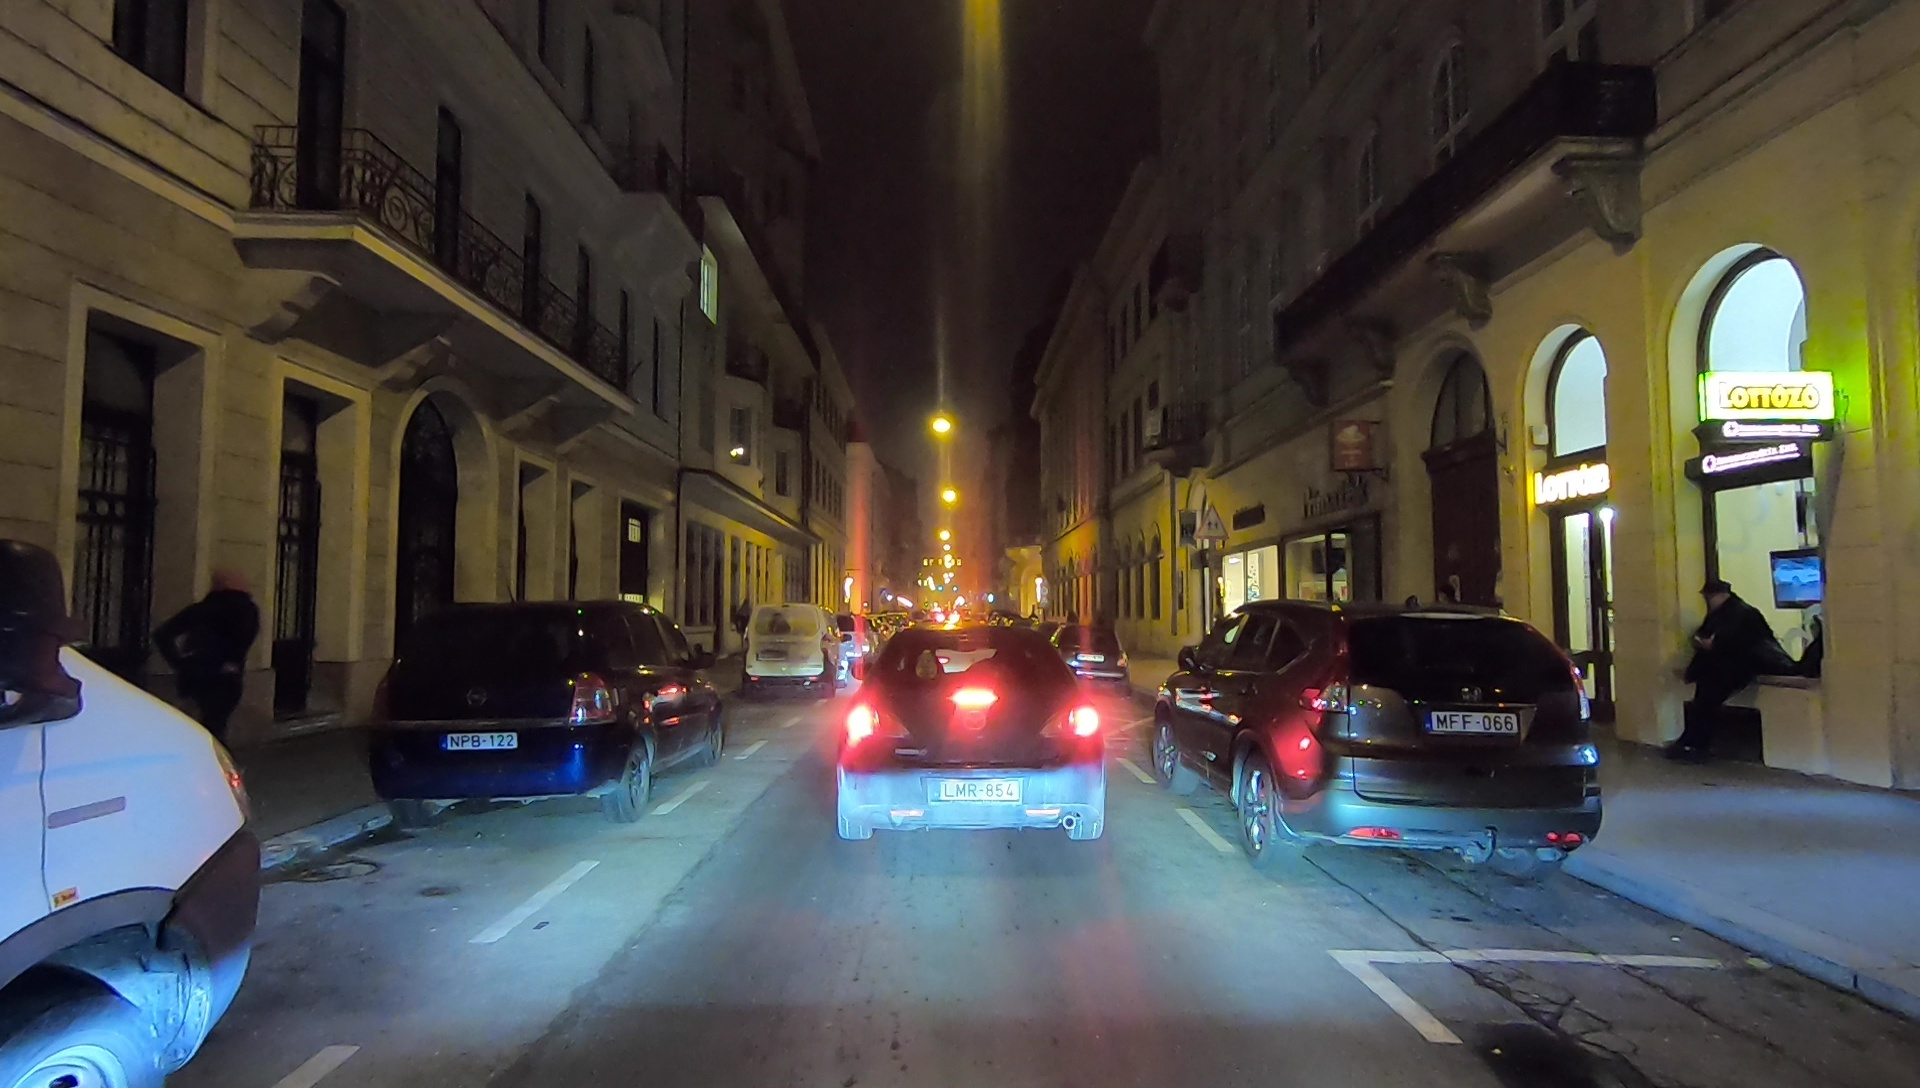person: (152, 569, 256, 773), (1680, 580, 1765, 765)
